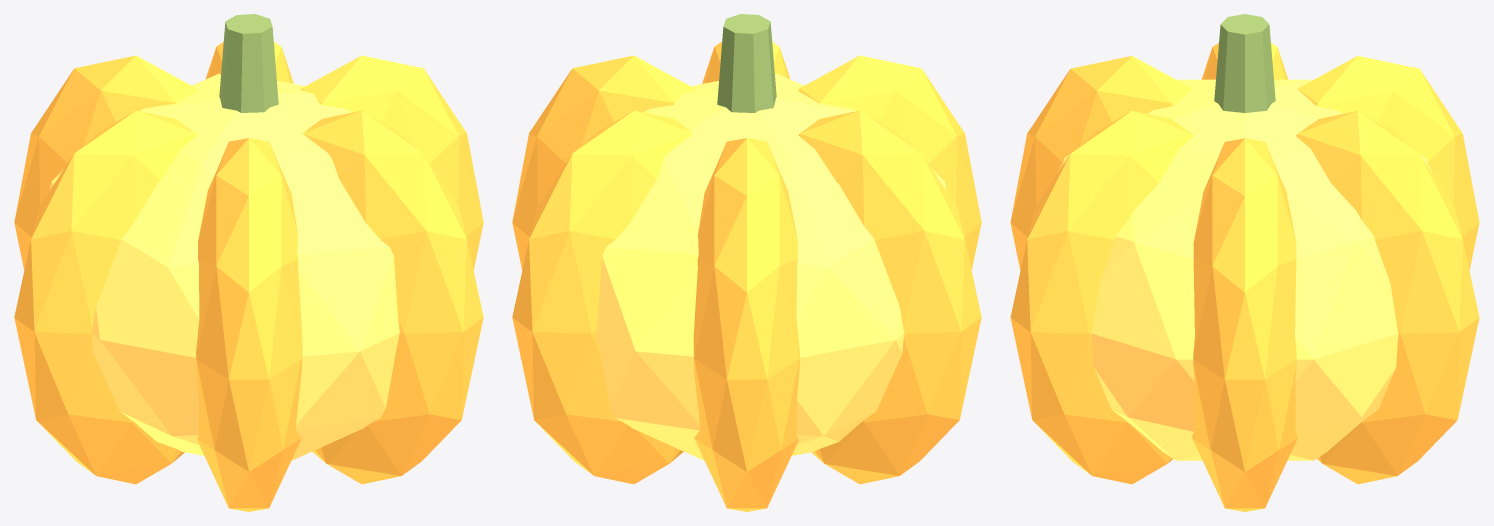
Rendered from halloween_mini_pumpkin.glb.
3 renders of one model, left to right at view 1: azimuth 30°, elevation 25°; view 2: azimuth 150°, elevation 25°; view 3: azimuth 270°, elevation 25°, orthographic.
Parts seen in each view (by area): view 1: MiniPumpkin; view 2: MiniPumpkin; view 3: MiniPumpkin.
Part boxes in pixels (x1=…): MiniPumpkin: x1=14, y1=14, x2=483, y2=511; MiniPumpkin: x1=512, y1=14, x2=981, y2=511; MiniPumpkin: x1=1010, y1=14, x2=1479, y2=511.
Size of the model in its own units: 1.38 by 1.27 by 1.25.
